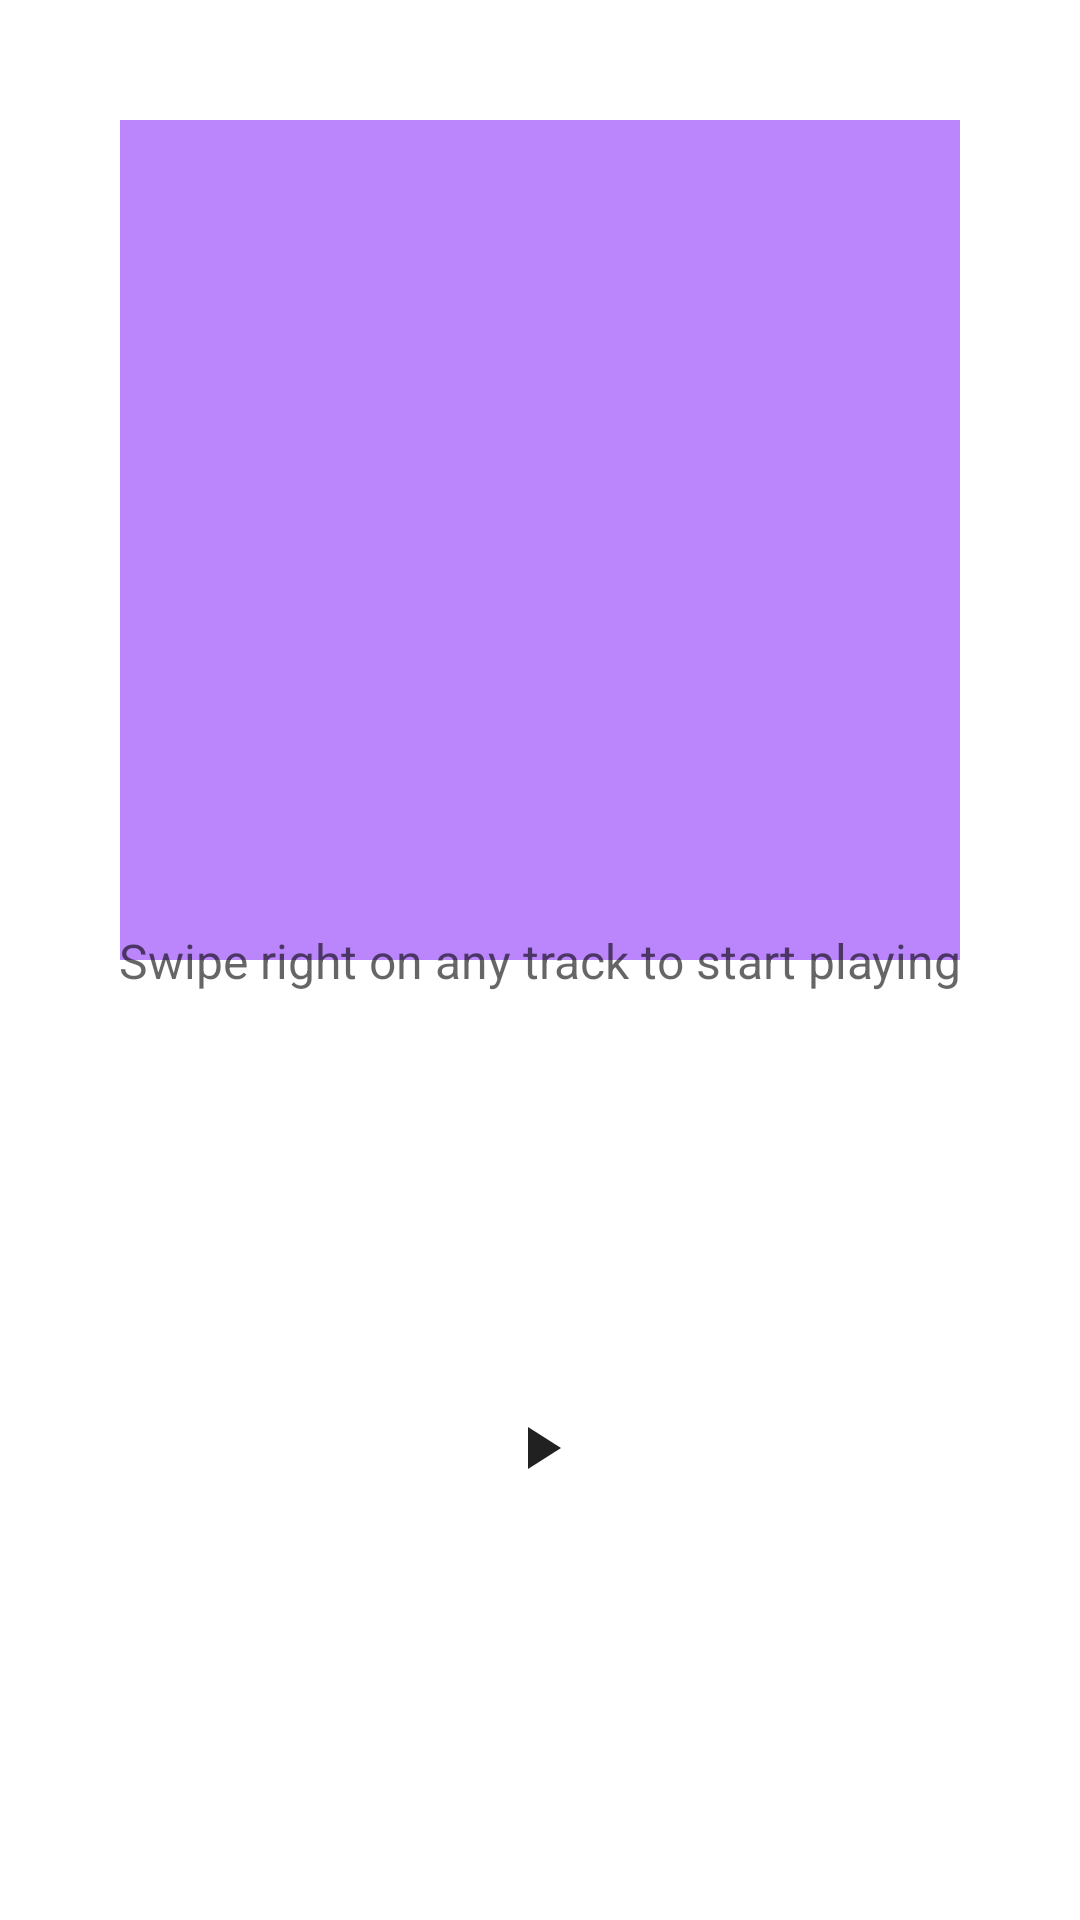

Icons on this 1080×1920 Android screen, each with its box as (x1,y1,x2,y2):
Play/Stop: (528,1427,561,1469)
